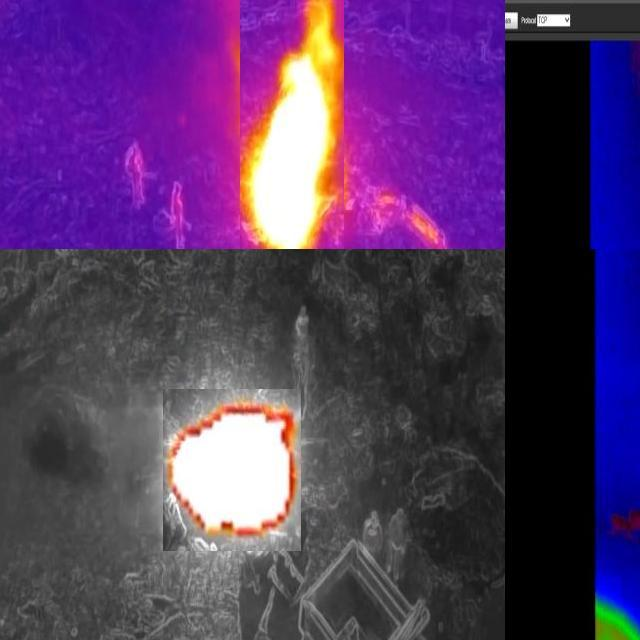fire: (241, 1, 345, 250), (164, 390, 302, 552)
